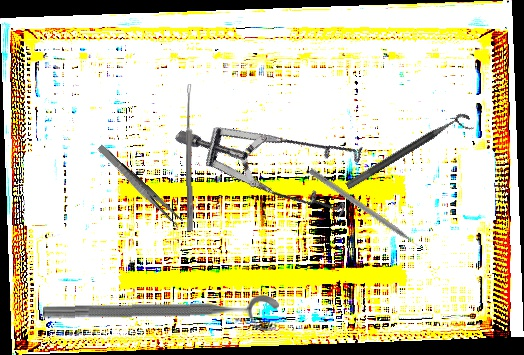Dressing Forceps: (95, 143, 184, 228)
Fixation Ring: (344, 110, 476, 200), (42, 294, 280, 338)
Pusher: (307, 167, 427, 255)
Speculum: (173, 48, 387, 264)
Surgical Spoon: (184, 83, 195, 232)
